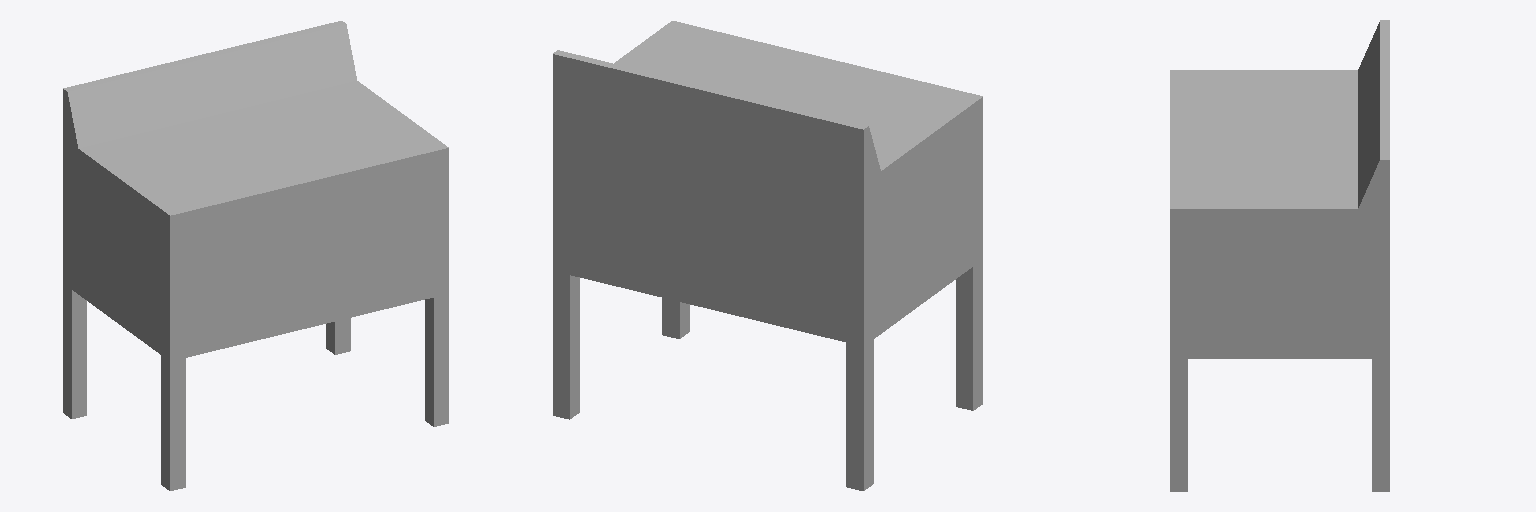
robot.urdf — deep_fryer:
<?xml version="1.0"?>
<!--
  deep_fryer.urdf
  다운로드 폴더 "이름없음-Body.step" → 변환. 튀김기(딥프라이어). 단일 바디(링크 1개).
  - 원본 STEP 단위 mm → 메쉬 좌표 자체를 m로 스케일 (scale="1 1 1")
  - 원점: 바닥면 한쪽 모서리 (x:0~0.9, y:0~0.6, z:0~1.0)
  - 저다각형(68면) 박스형 구조물 → 시각/충돌 모두 원본 메쉬 그대로 사용(단순화 불필요)
  - 치수 0.90 x 0.60 x 1.00 m
  - 상판은 평평한 한 면이 아니라 2단 구조: 대부분(y:0~0.513)은 z=0.85(메인 상판),
    한쪽 얇은 턱(y:0.573~0.6)만 z=1.0(전체 높이)로 15cm 더 높음 — 위에 물체를 얹을 땐 메인 상판(z=0.85) 기준.
  - 바닥에 고정 설치되는 조리기기이므로 스폰 시 AssetOptions.fix_base_link=True 권장
  - collision은 원본 삼각형 메쉬 그대로 쓰면 위에 놓인 물체와의 접촉이 불안정(미세하게 기울어짐)하므로
    AssetOptions.vhacd_enabled=True(볼록분해)로 로드할 것 (예: run_deepfry_B.py 참고). 정적 바디라 성능 영향 없음.
-->
<robot name="deep_fryer">

  <material name="fryer_steel"> <color rgba="0.75 0.75 0.75 1.0"/> </material>

  <link name="base_link">
    <inertial>
      <origin xyz="0.45 0.30 0.50"/>
      <mass value="15.0"/>
      <!-- 박스 관성 (m=15, 0.90x0.60x1.00) -->
      <inertia ixx="1.708" ixy="0" ixz="0" iyy="2.271" iyz="0" izz="1.4625"/>
    </inertial>

    <visual>
      <origin xyz="0 0 0"/>
      <geometry><mesh filename="meshes/deep_fryer.stl" scale="1 1 1"/></geometry>
      <material name="fryer_steel"/>
    </visual>

    <collision>
      <origin xyz="0 0 0"/>
      <geometry><mesh filename="meshes/deep_fryer.stl" scale="1 1 1"/></geometry>
    </collision>
  </link>
</robot>

--- Facts derived from the render (not from the file) ---
Views: 3 orthographic renders of the robot side by side, from view 1: azimuth 30°, elevation 25°; view 2: azimuth 150°, elevation 25°; view 3: azimuth 270°, elevation 25°.
Model deep_fryer with 1 links and 0 joints (none), rooted at base_link, posed all joints at 0.
Visible links, largest first — view 1: base_link; view 2: base_link; view 3: base_link.
Link boxes in pixels (box(x1,y1,x2,y2)): base_link: box(63, 21, 448, 490); base_link: box(553, 21, 982, 490); base_link: box(1170, 20, 1389, 491).
Bounding box of the posed robot: 0.9 × 0.6 × 1 m (x, y, z).
1 mesh visuals loaded from 1 distinct referenced files (1 binary STL).
